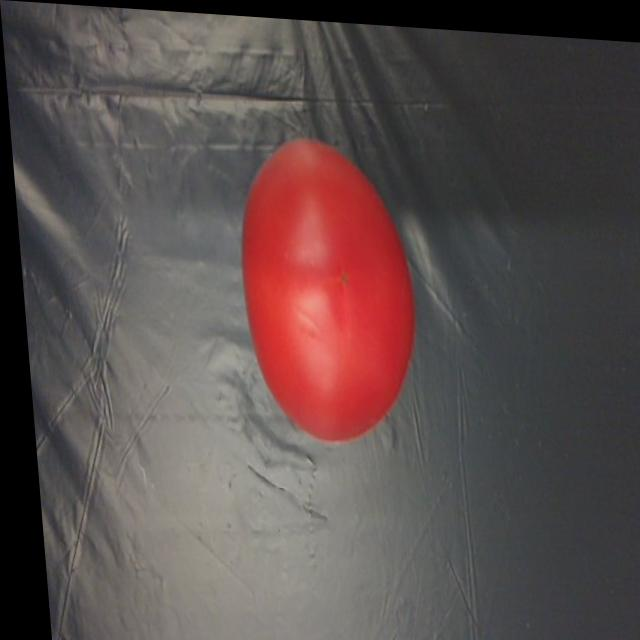kirmizi: (225, 128, 419, 443)
